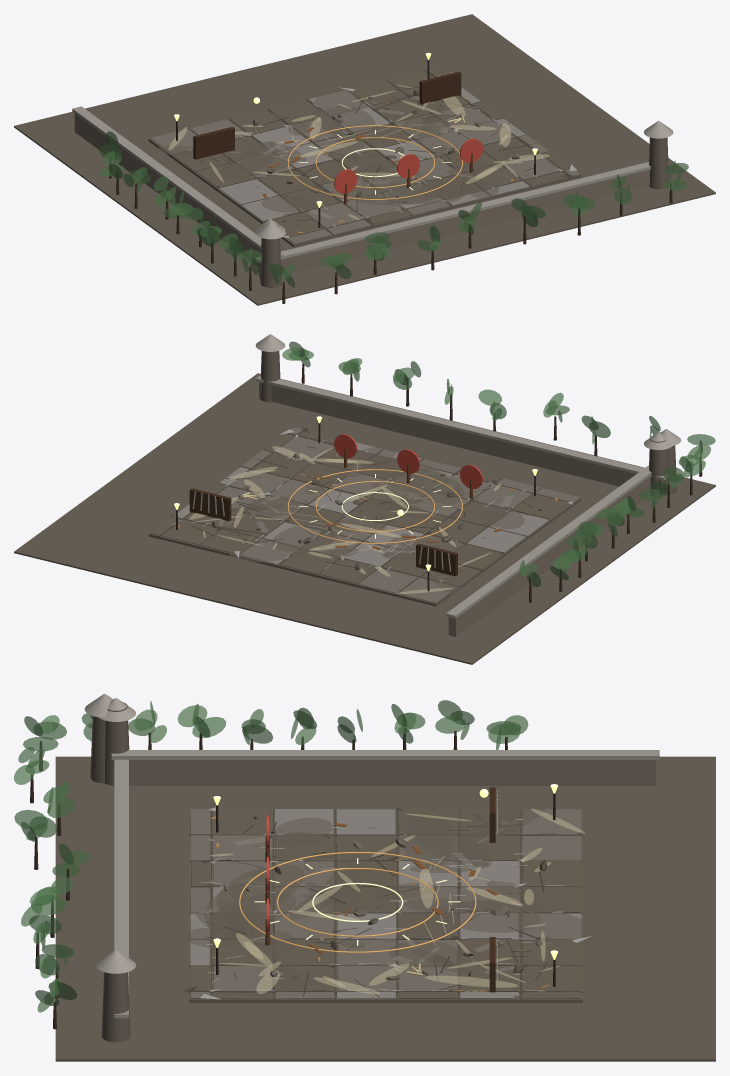
File: training-yard.high.glb
3 renders of one model, top to bottom at view 1: azimuth 30°, elevation 25°; view 2: azimuth 150°, elevation 25°; view 3: azimuth 270°, elevation 25°, orthographic. The views are drawn at different scales.
Parts seen in each view (by area): view 1: terrain_skirt_blended_ground, individual_settled_beveled_floor_tile (×41), irregular_moss_mud_ground_patch (×12), campus_perimeter_wall_far, authored_floor_slab, campus_wall_far_capstone, campus_perimeter_wall_west, campus_wall_west_capstone, weapon_rack_frame (×2), distant_academy_round_tower (×2), authored_floor_rune_ring; view 2: terrain_skirt_blended_ground, individual_settled_beveled_floor_tile (×37), irregular_moss_mud_ground_patch (×9), campus_perimeter_wall_far, authored_floor_slab, campus_perimeter_wall_west, campus_wall_far_capstone, campus_wall_west_capstone, weapon_rack_frame (×2), distant_academy_round_tower (×2), authored_floor_rune_ring; view 3: terrain_skirt_blended_ground, individual_settled_beveled_floor_tile (×41), irregular_moss_mud_ground_patch (×18), campus_perimeter_wall_west, authored_floor_slab, campus_wall_west_capstone, distant_academy_round_tower (×3), campus_wall_far_capstone, authored_floor_rune_ring (×2), distant_academy_tower_roof, powdered_chalk_boot_scuff.
Part boxes in pixels (x1,y1,x2,y2): terrain_skirt_blended_ground: [14, 14, 715, 305]; individual_settled_beveled_floor_tile (×41): [150, 71, 559, 237]; irregular_moss_mud_ground_patch (×12): [156, 84, 498, 212]; campus_perimeter_wall_far: [259, 169, 650, 277]; authored_floor_slab: [148, 71, 581, 247]; campus_wall_far_capstone: [256, 162, 668, 263]; campus_perimeter_wall_west: [74, 113, 260, 266]; campus_wall_west_capstone: [72, 106, 283, 257]; weapon_rack_frame (×2): [193, 71, 461, 159]; distant_academy_round_tower (×2): [260, 137, 668, 287]; authored_floor_rune_ring: [287, 125, 462, 199]; terrain_skirt_blended_ground: [14, 373, 715, 664]; individual_settled_beveled_floor_tile (×37): [161, 436, 570, 602]; irregular_moss_mud_ground_patch (×9): [229, 457, 524, 562]; campus_perimeter_wall_far: [259, 382, 662, 496]; authored_floor_slab: [148, 430, 581, 606]; campus_perimeter_wall_west: [448, 476, 650, 636]; campus_wall_far_capstone: [256, 375, 668, 480]; campus_wall_west_capstone: [446, 465, 651, 618]; weapon_rack_frame (×2): [189, 488, 457, 576]; distant_academy_round_tower (×2): [260, 351, 667, 496]; authored_floor_rune_ring: [287, 469, 462, 543]; terrain_skirt_blended_ground: [55, 756, 715, 1061]; individual_settled_beveled_floor_tile (×41): [212, 809, 581, 991]; irregular_moss_mud_ground_patch (×18): [184, 802, 600, 967]; campus_perimeter_wall_west: [129, 760, 655, 785]; authored_floor_slab: [189, 809, 582, 1002]; campus_wall_west_capstone: [111, 750, 659, 759]; distant_academy_round_tower (×3): [90, 702, 130, 1042]; campus_wall_far_capstone: [114, 759, 128, 1018]; authored_floor_rune_ring (×2): [239, 852, 476, 952]; distant_academy_tower_roof: [96, 949, 136, 973]; powdered_chalk_boot_scuff: [425, 975, 517, 987].
Bounding box in the file's own units: 25.83 × 3.82 × 24.98.
